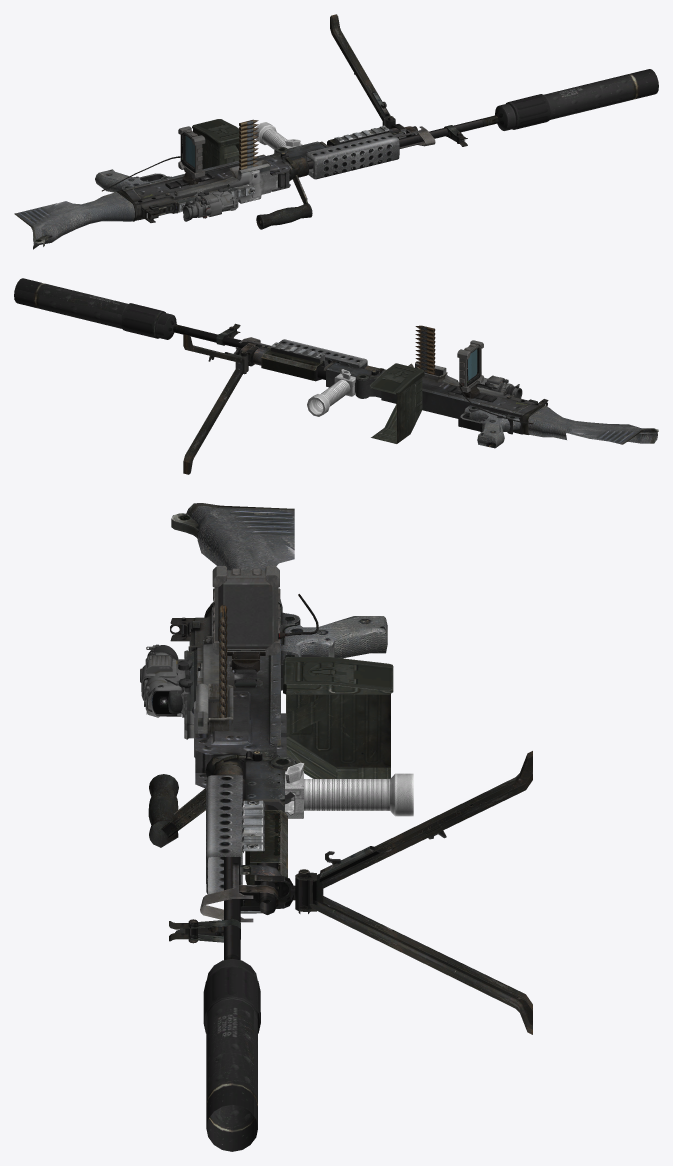
File: viewmodel_m240_red_tiger_LOD0.obj
The picture shows the model from 3 angles, top to bottom: view 1: azimuth 30°, elevation 25°; view 2: azimuth 150°, elevation 25°; view 3: azimuth 270°, elevation 25°; orthographic projection. The views are drawn at different scales.
Visible parts, largest first — view 1: mtl_weapon_m240_red_tiger, mtl_weapon_suppressor_b, mtl_weapon_motion_tracker_red_tiger, mtl_weapon_mg_handle, mtl_weapon_scar_h_foregrip, mtl_weapon_acog_2_red_tiger, mtl_weapon_thermal_sight_2_red_tiger; view 2: mtl_weapon_m240_red_tiger, mtl_weapon_suppressor_b, mtl_weapon_motion_tracker_red_tiger, mtl_weapon_scar_h_foregrip, mtl_weapon_thermal_sight_2_red_tiger; view 3: mtl_weapon_m240_red_tiger, mtl_weapon_suppressor_b, mtl_weapon_motion_tracker_red_tiger, mtl_weapon_scar_h_foregrip, mtl_weapon_mg_handle, mtl_weapon_thermal_sight_2_red_tiger.
Part boxes in pixels (box(x1,y1,x2,y2)): mtl_weapon_m240_red_tiger: box(14, 14, 498, 249); mtl_weapon_suppressor_b: box(495, 69, 658, 130); mtl_weapon_motion_tracker_red_tiger: box(102, 126, 215, 191); mtl_weapon_mg_handle: box(256, 175, 312, 229); mtl_weapon_scar_h_foregrip: box(254, 122, 302, 149); mtl_weapon_acog_2_red_tiger: box(183, 188, 237, 219); mtl_weapon_thermal_sight_2_red_tiger: box(183, 191, 238, 221); mtl_weapon_m240_red_tiger: box(173, 323, 658, 474); mtl_weapon_suppressor_b: box(14, 278, 176, 339); mtl_weapon_motion_tracker_red_tiger: box(447, 340, 533, 424); mtl_weapon_scar_h_foregrip: box(307, 369, 355, 416); mtl_weapon_thermal_sight_2_red_tiger: box(479, 375, 521, 398); mtl_weapon_m240_red_tiger: box(169, 503, 532, 1034); mtl_weapon_suppressor_b: box(203, 958, 260, 1151); mtl_weapon_motion_tracker_red_tiger: box(212, 566, 318, 687); mtl_weapon_scar_h_foregrip: box(285, 762, 413, 818); mtl_weapon_mg_handle: box(148, 774, 205, 847); mtl_weapon_thermal_sight_2_red_tiger: box(143, 645, 188, 714).
Bounding box in the file's own units: 173 × 36.8 × 46.96.
